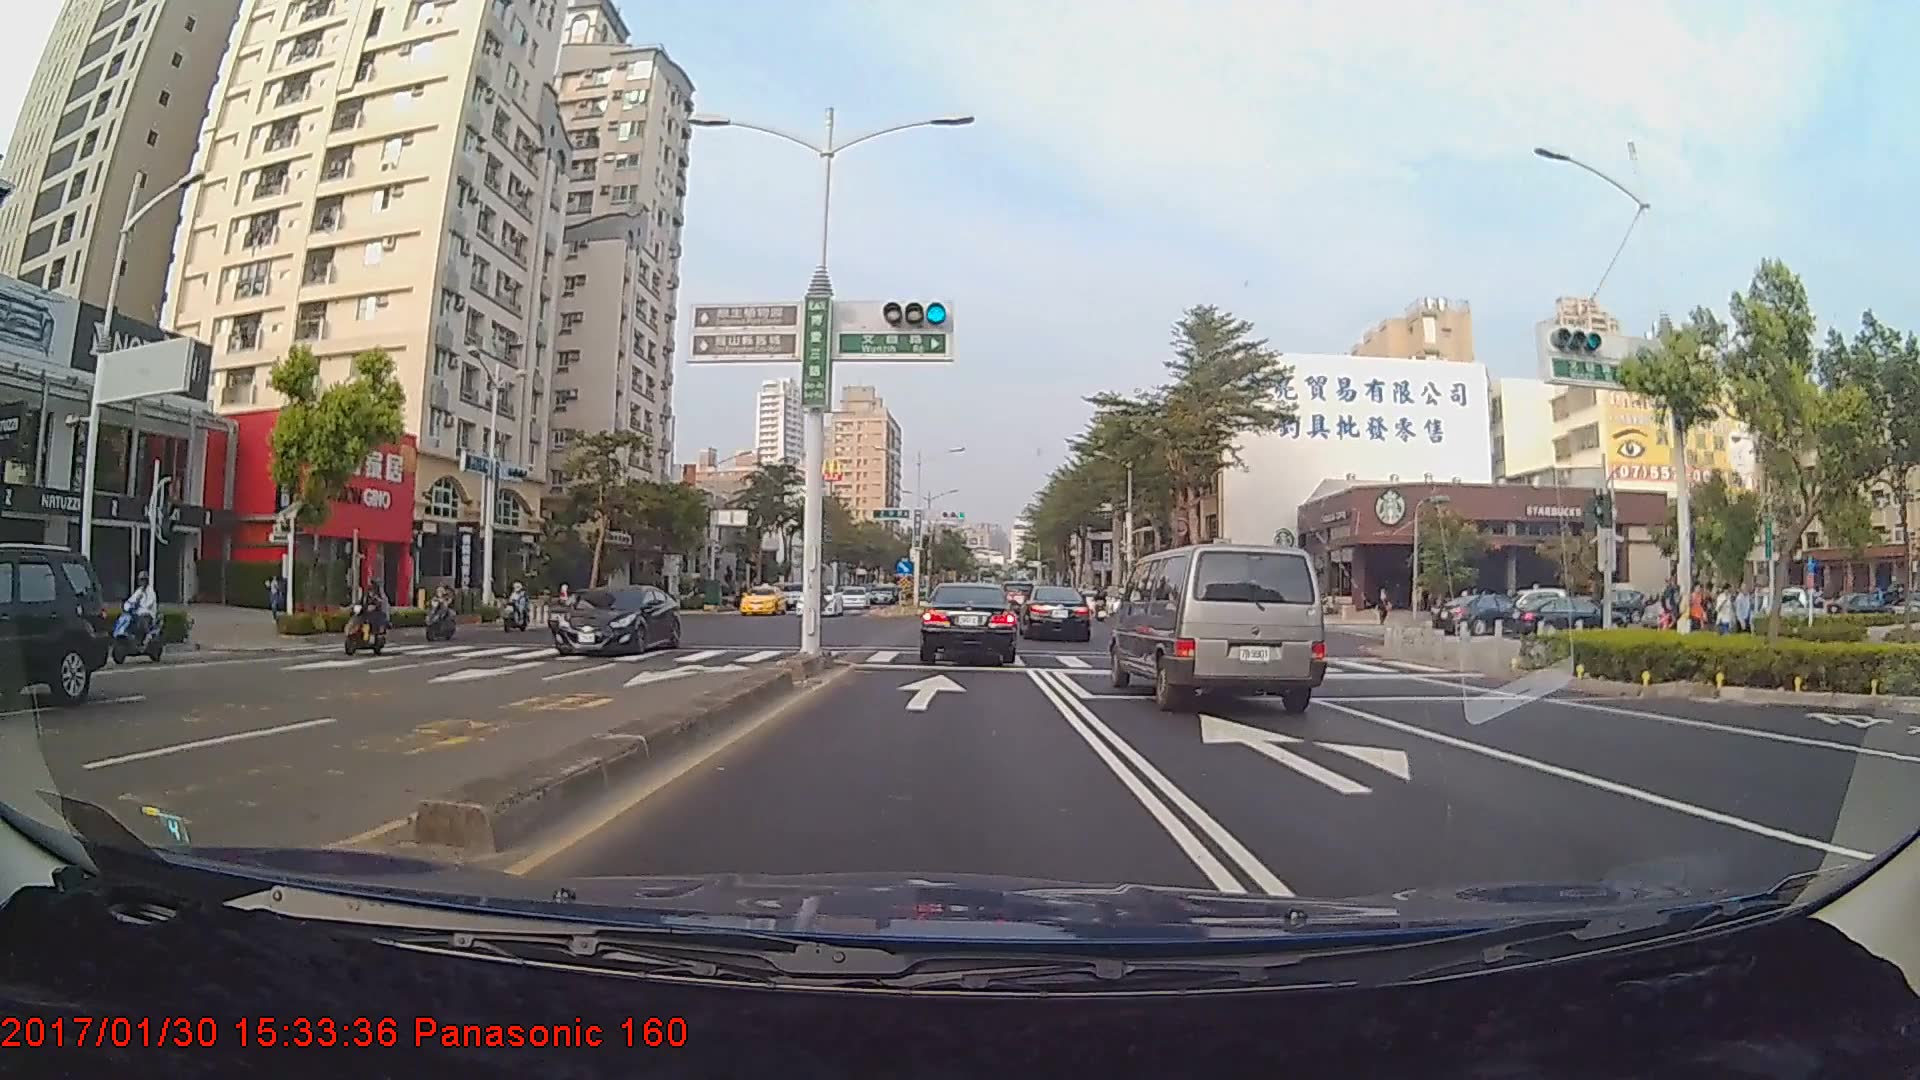pedestrian: (1662, 571, 1686, 647), (1732, 583, 1755, 649), (1717, 581, 1737, 648), (1688, 584, 1708, 645)
rider: (331, 574, 394, 664), (115, 574, 176, 662), (421, 578, 464, 647)
vehicle: (1113, 540, 1326, 715), (0, 545, 108, 708), (917, 583, 1019, 664), (556, 586, 681, 652), (1016, 586, 1091, 642), (1435, 590, 1522, 638), (737, 584, 788, 617), (795, 582, 843, 614), (837, 586, 870, 611)
